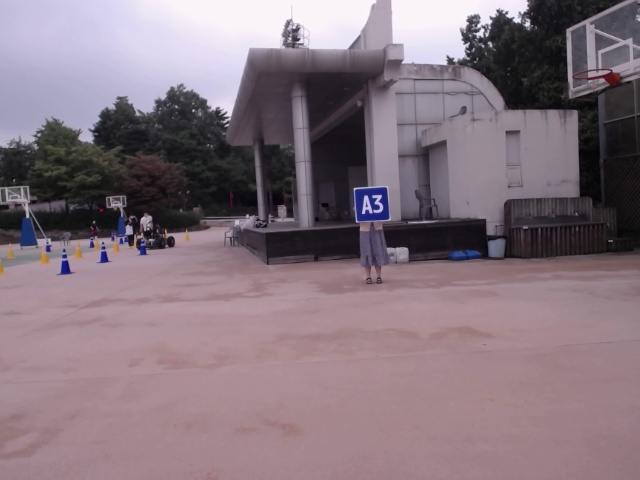delivery_a3: (354, 187, 390, 222)
